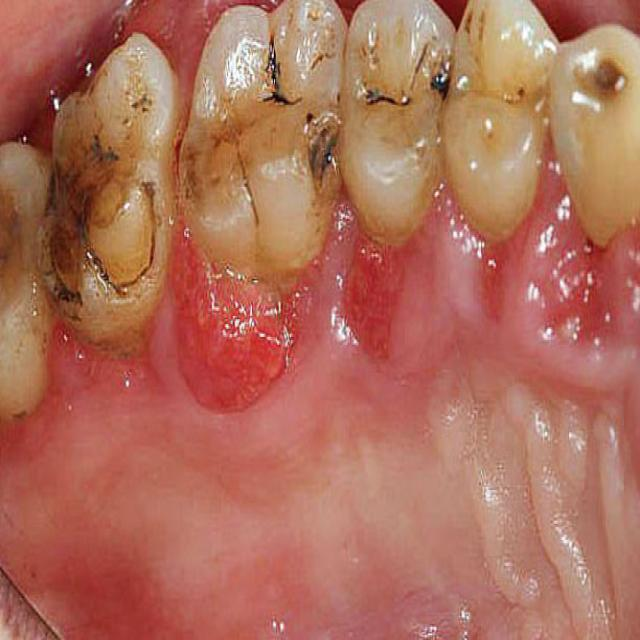caries: (36, 133, 158, 312), (178, 104, 258, 220), (292, 104, 347, 202), (0, 179, 36, 326), (575, 43, 636, 122), (254, 33, 303, 113), (353, 62, 411, 127), (458, 0, 501, 58), (423, 44, 455, 116)
